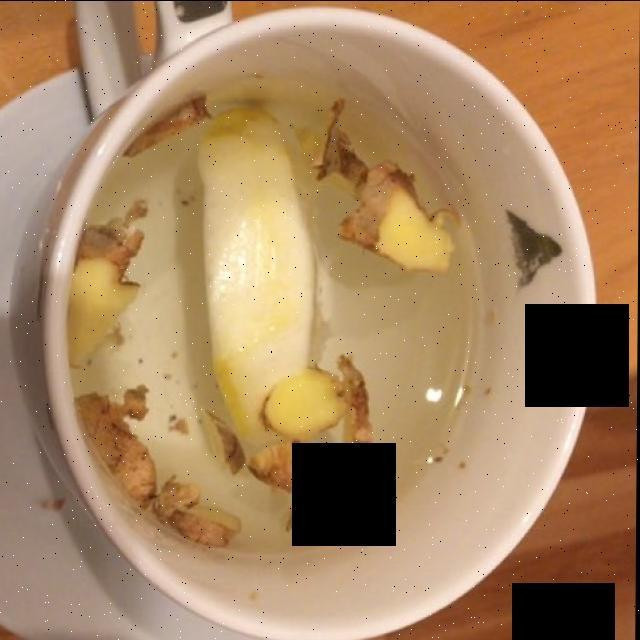tea: (82, 76, 497, 542)
